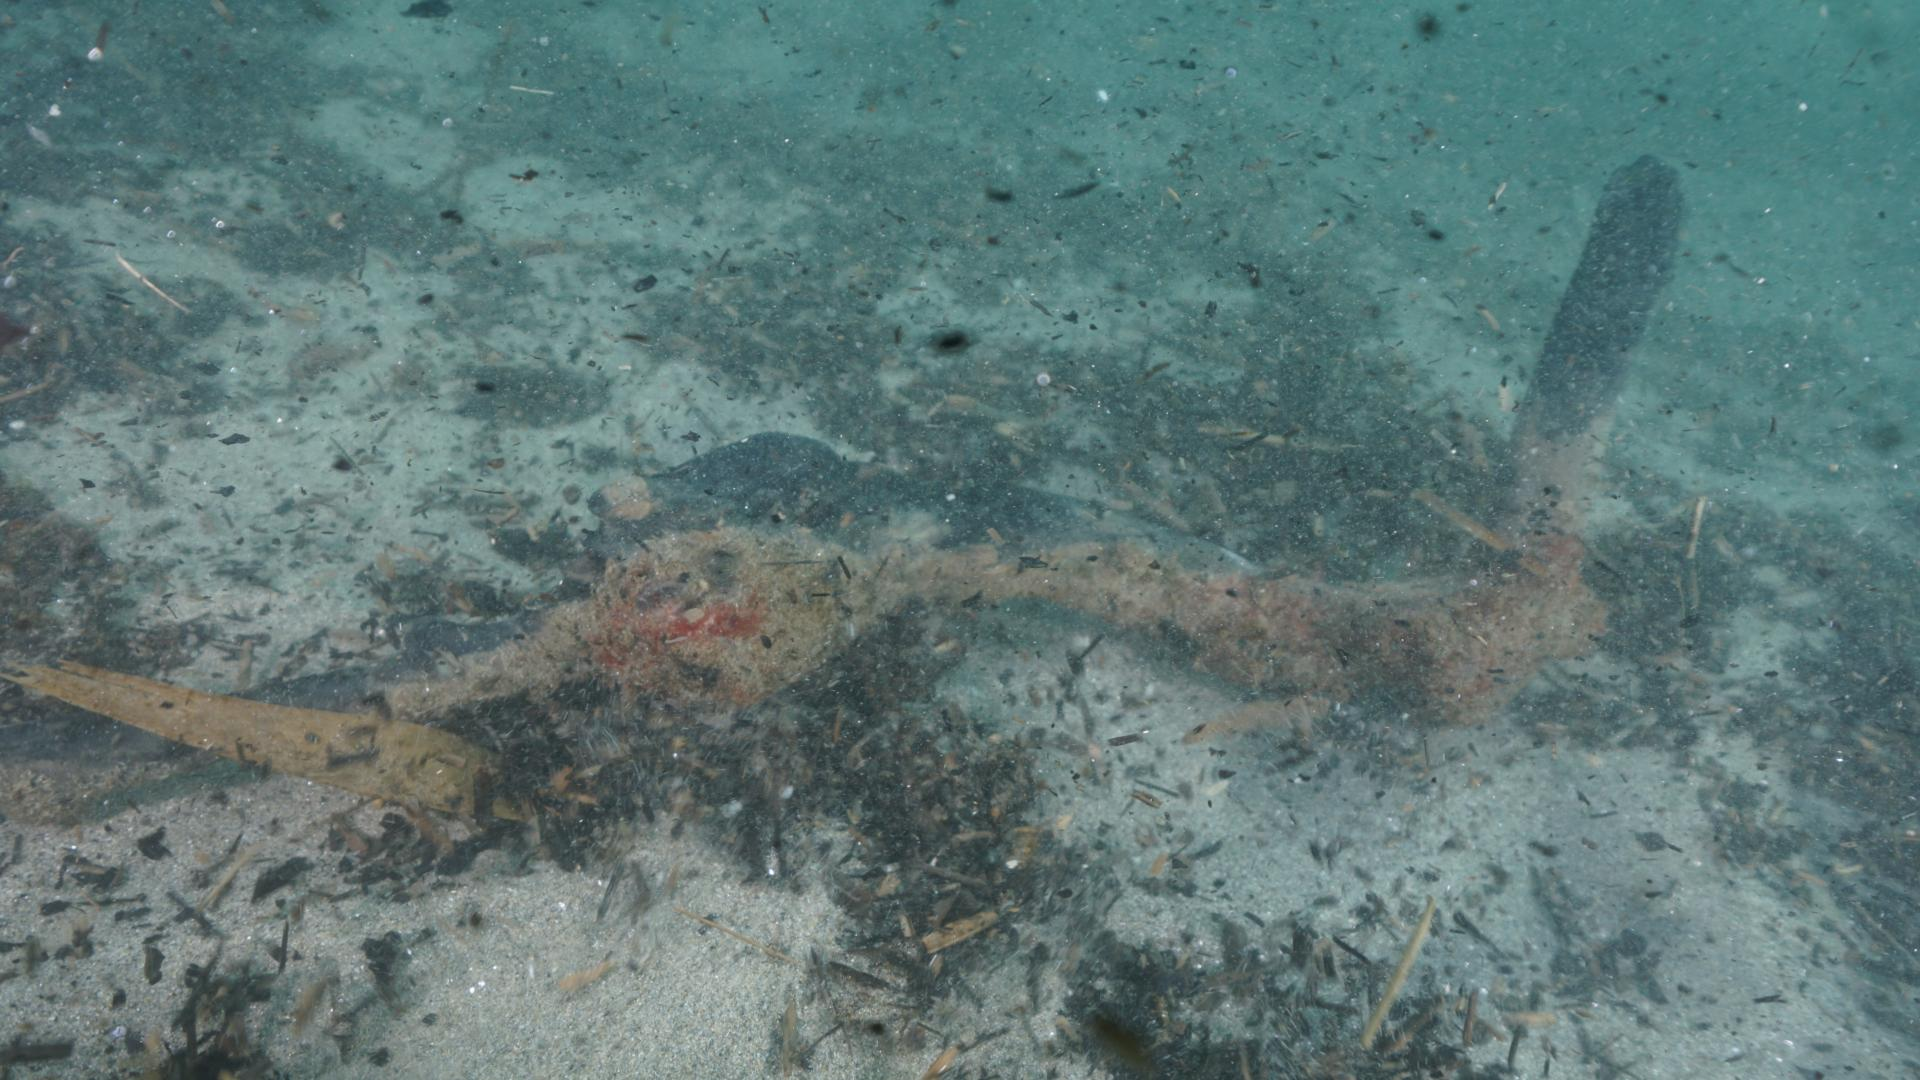wood: (0, 157, 1691, 806)
